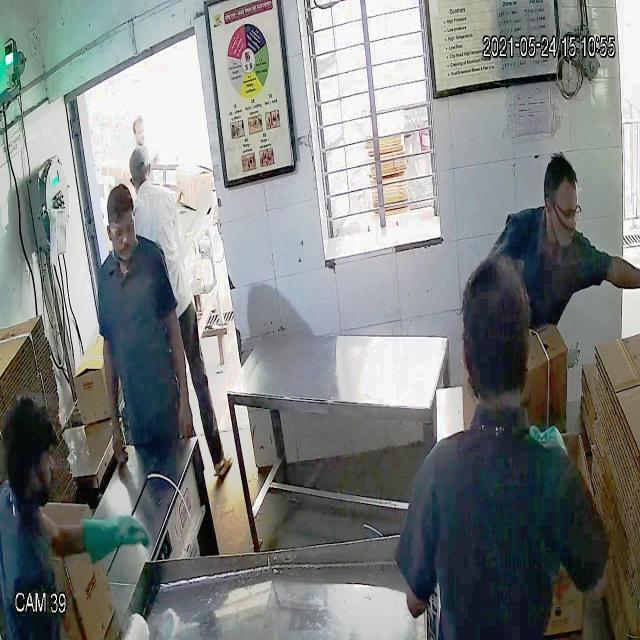glasses: (543, 187, 585, 231), (101, 209, 139, 244)
